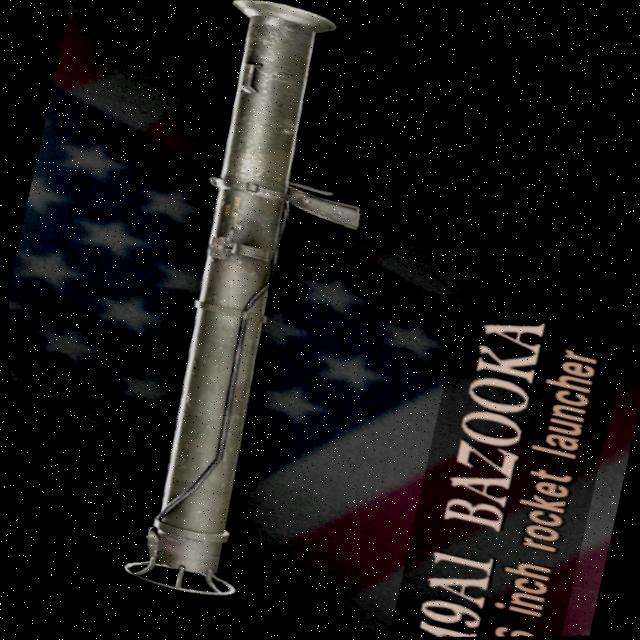rocket: (86, 0, 414, 615)
